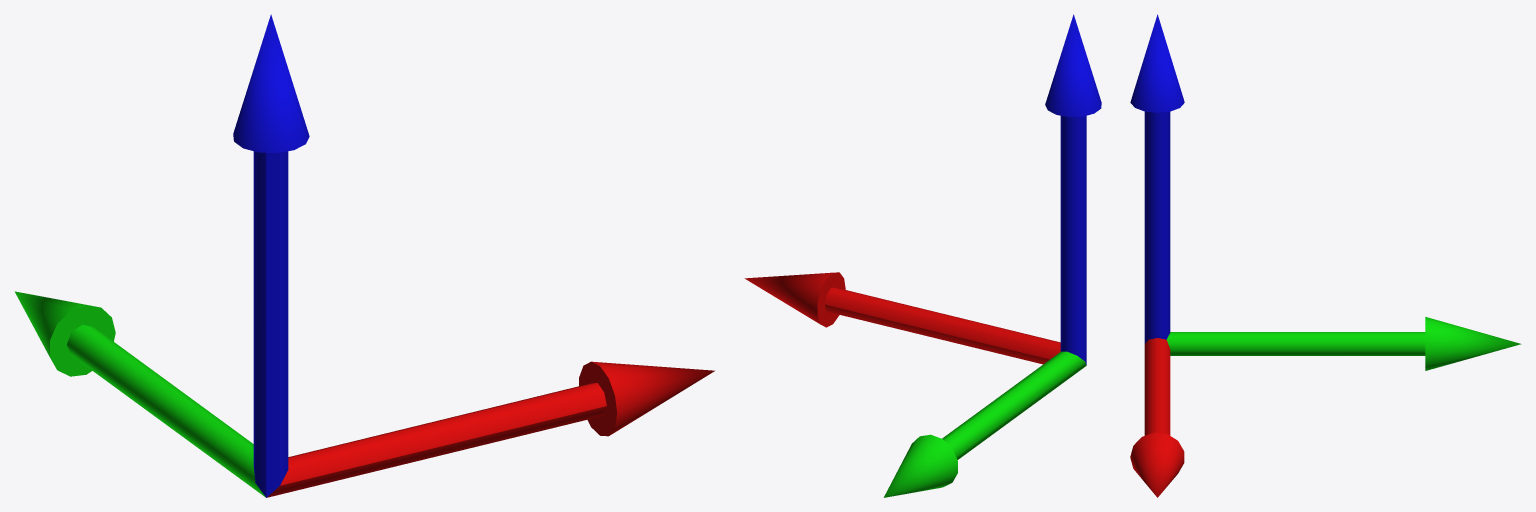
The model's file is transform-gizmo.FBX.
3 renders of one model, left to right at view 1: azimuth 30°, elevation 25°; view 2: azimuth 150°, elevation 25°; view 3: azimuth 270°, elevation 25°, orthographic. The views are drawn at different scales.
Visible parts, largest first — view 1: transform-manipulator-position; view 2: transform-manipulator-position; view 3: transform-manipulator-position.
Part boxes in pixels (left/top/right/bottom): transform-manipulator-position: left=14, top=14, right=714, bottom=497; transform-manipulator-position: left=744, top=14, right=1101, bottom=497; transform-manipulator-position: left=1130, top=14, right=1521, bottom=497.
Bounding box in the file's own units: 38.81 × 38.86 × 38.88.
